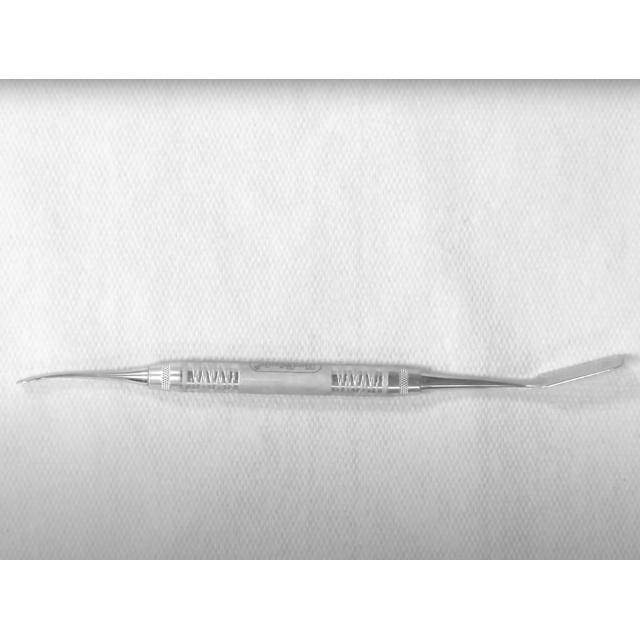elevador: (23, 356, 634, 399)
